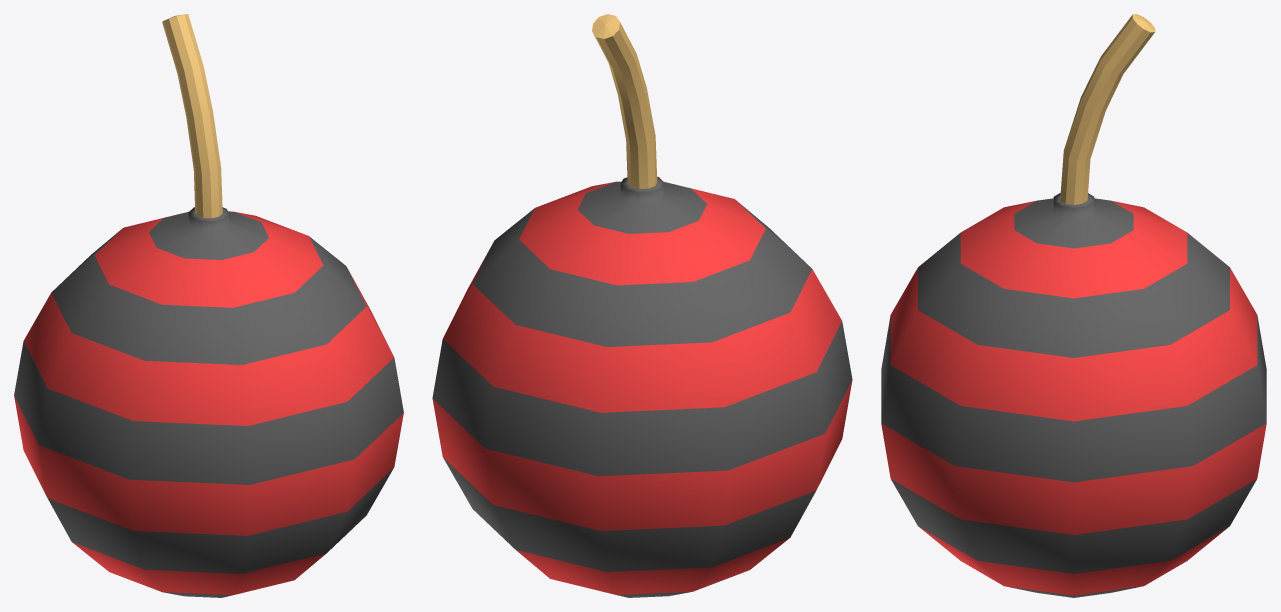
File: Bomb_1.fbx
3 views of the same model, side by side, from view 1: azimuth 30°, elevation 25°; view 2: azimuth 150°, elevation 25°; view 3: azimuth 270°, elevation 25° (orthographic). The views are drawn at different scales.
Visible parts, largest first — view 1: pSphere1; view 2: pSphere1; view 3: pSphere1.
Part boxes in pixels (left/top/right/bottom): pSphere1: left=14, top=14, right=403, bottom=597; pSphere1: left=432, top=14, right=852, bottom=597; pSphere1: left=881, top=14, right=1266, bottom=597.
Size of the model in its own units: 75.29 by 116 by 71.6.
